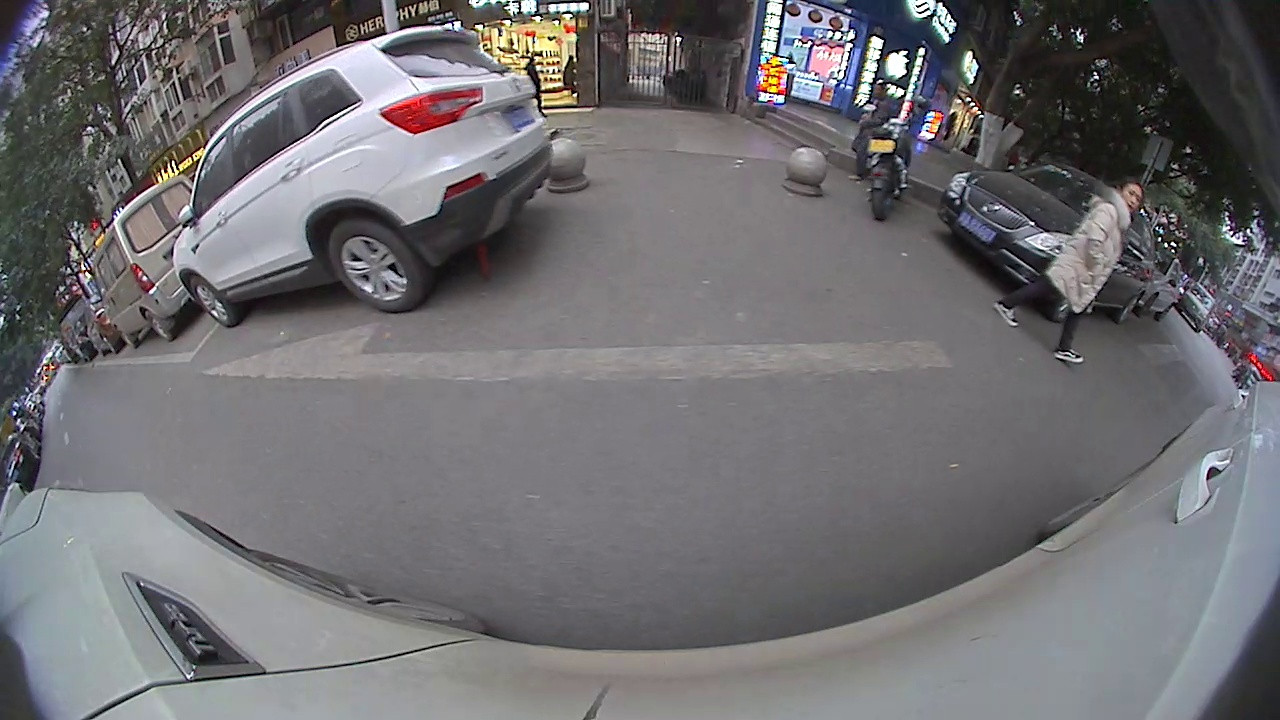car: (167, 20, 555, 331), (933, 156, 1166, 330), (91, 172, 204, 351)
front: (180, 277, 237, 329)
person: (1094, 165, 1148, 278)
rear: (326, 221, 424, 315), (141, 312, 175, 342)
rider: (865, 107, 917, 227)
